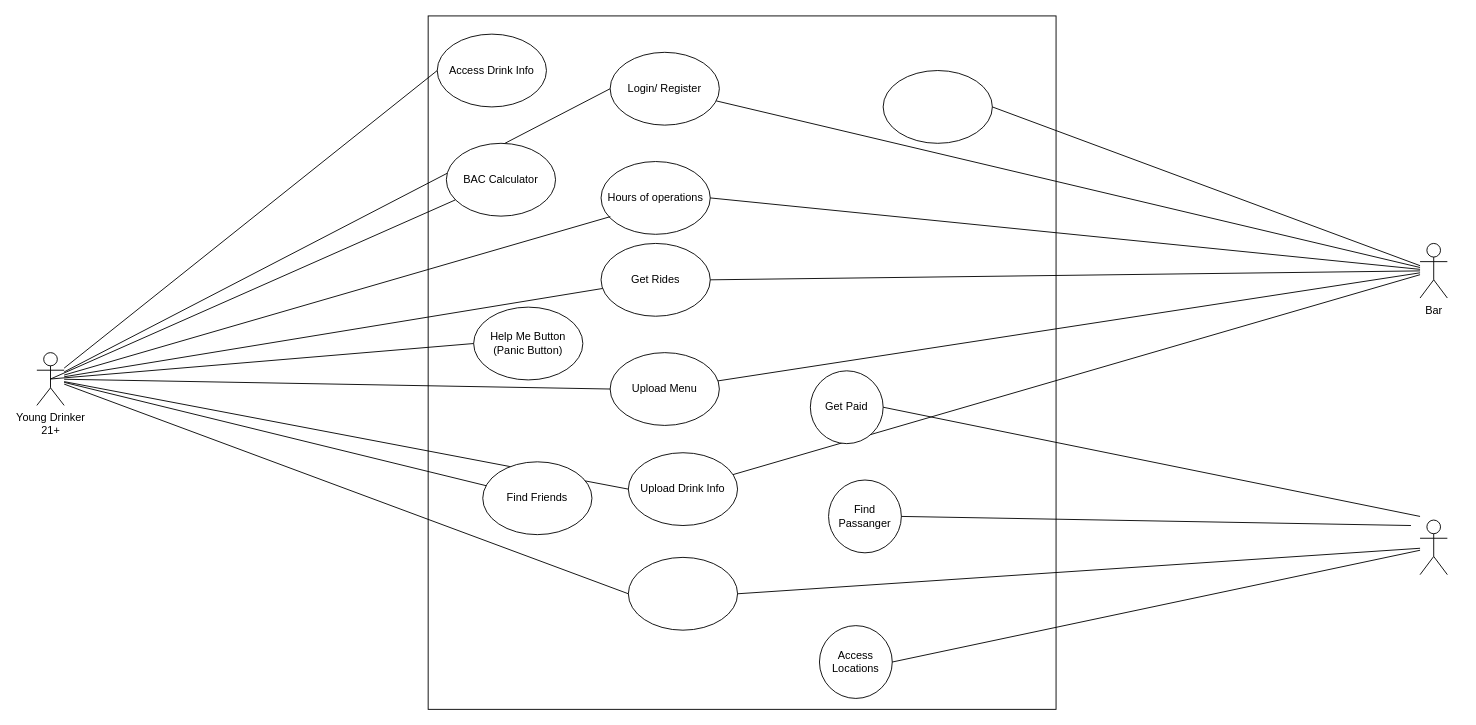
This 1476x725 diagram has some shape labels left out. The centre of each missing label's shape, as x and y in pixels:
"Leave Reviews" goes at (x=682, y=593).
"Safe Driver" goes at (x=1433, y=547).
"Special Events" goes at (x=937, y=106).
